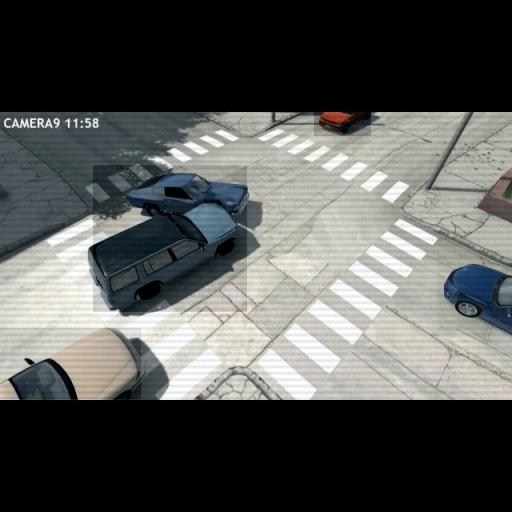小汽车: (0, 328, 141, 399), (437, 254, 512, 335), (314, 112, 371, 136)
小汽车撞小汽车: (93, 165, 247, 312)
